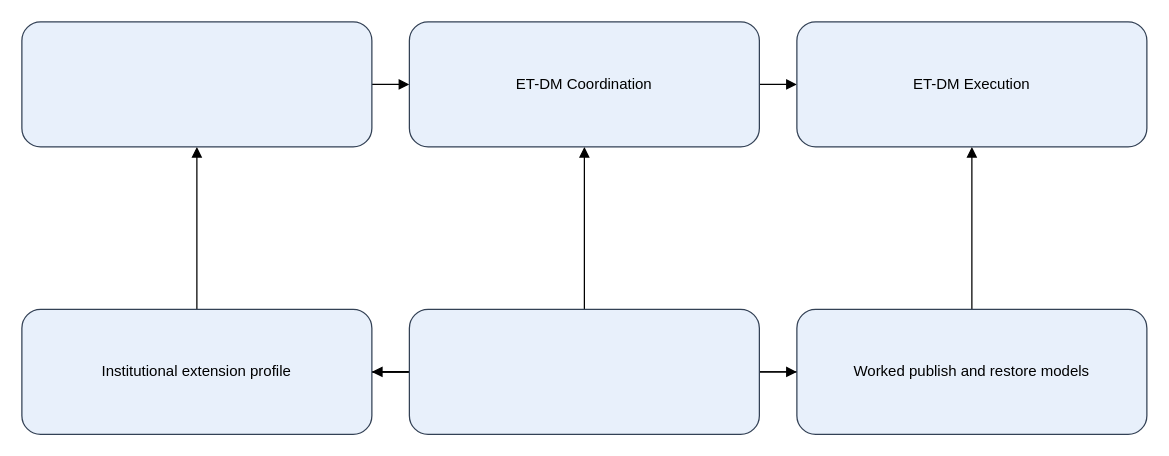
Image size: 1169x456. Some labels were removed from this diagram. The shapes that lost their labels are listed below. From the top down, each one's box as (x1, y1, x2, y2) in pixels, then its label:
(21, 21, 372, 147): DAO-ML Organization
(408, 308, 759, 434): 36 requirement mappings
